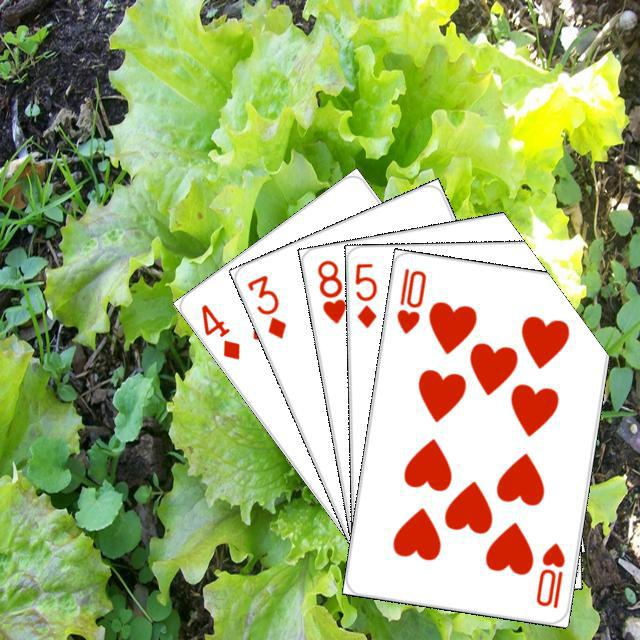10h: (391, 263, 428, 336), (531, 537, 567, 611)
3d: (242, 270, 288, 341)
4d: (196, 299, 242, 362)
5d: (350, 258, 379, 330)
8h: (312, 255, 348, 325)
